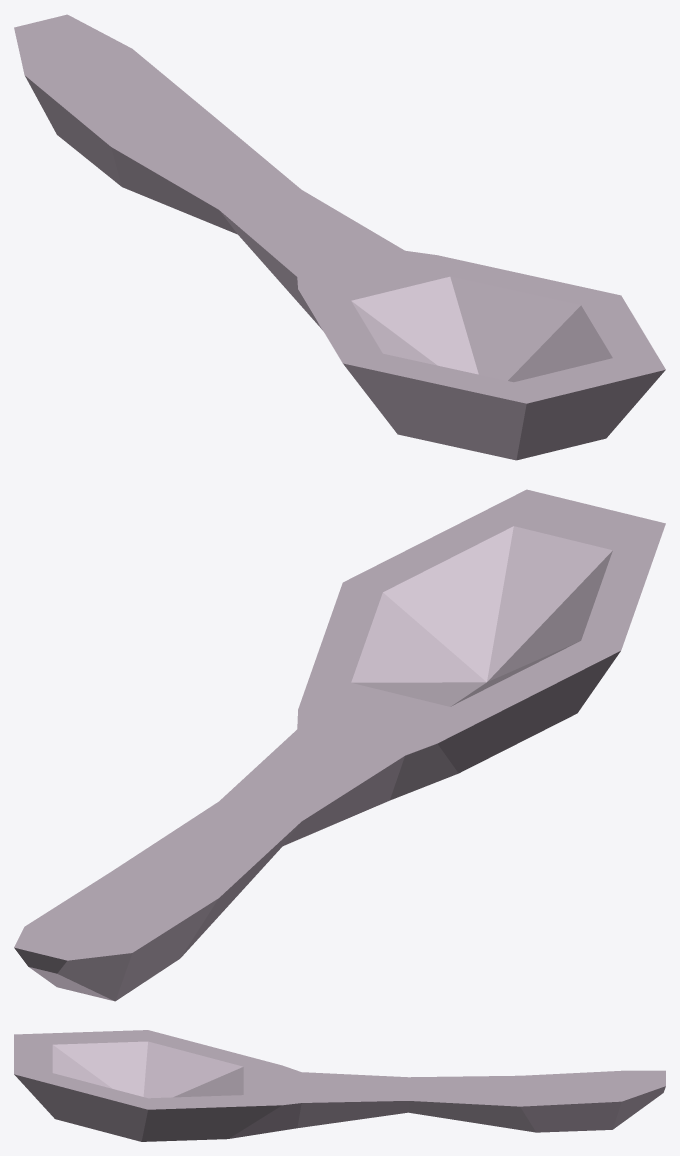
Rendered from SM_Item_Cutlery_Spoon_01.fbx.
3 views of the same model, one above another, from view 1: azimuth 30°, elevation 25°; view 2: azimuth 150°, elevation 25°; view 3: azimuth 270°, elevation 25° (orthographic). The views are drawn at different scales.
Parts seen in each view (by area): view 1: SM_Item_Cutlery_Spoon_01; view 2: SM_Item_Cutlery_Spoon_01; view 3: SM_Item_Cutlery_Spoon_01.
Boxes of the visible parts, bbox=[...] form: SM_Item_Cutlery_Spoon_01: bbox=[14, 14, 665, 460]; SM_Item_Cutlery_Spoon_01: bbox=[14, 489, 665, 1001]; SM_Item_Cutlery_Spoon_01: bbox=[14, 1030, 665, 1141].
Bounding box in the file's own units: 0.0784 × 0.033 × 0.271.
1 material, 1 textured.
